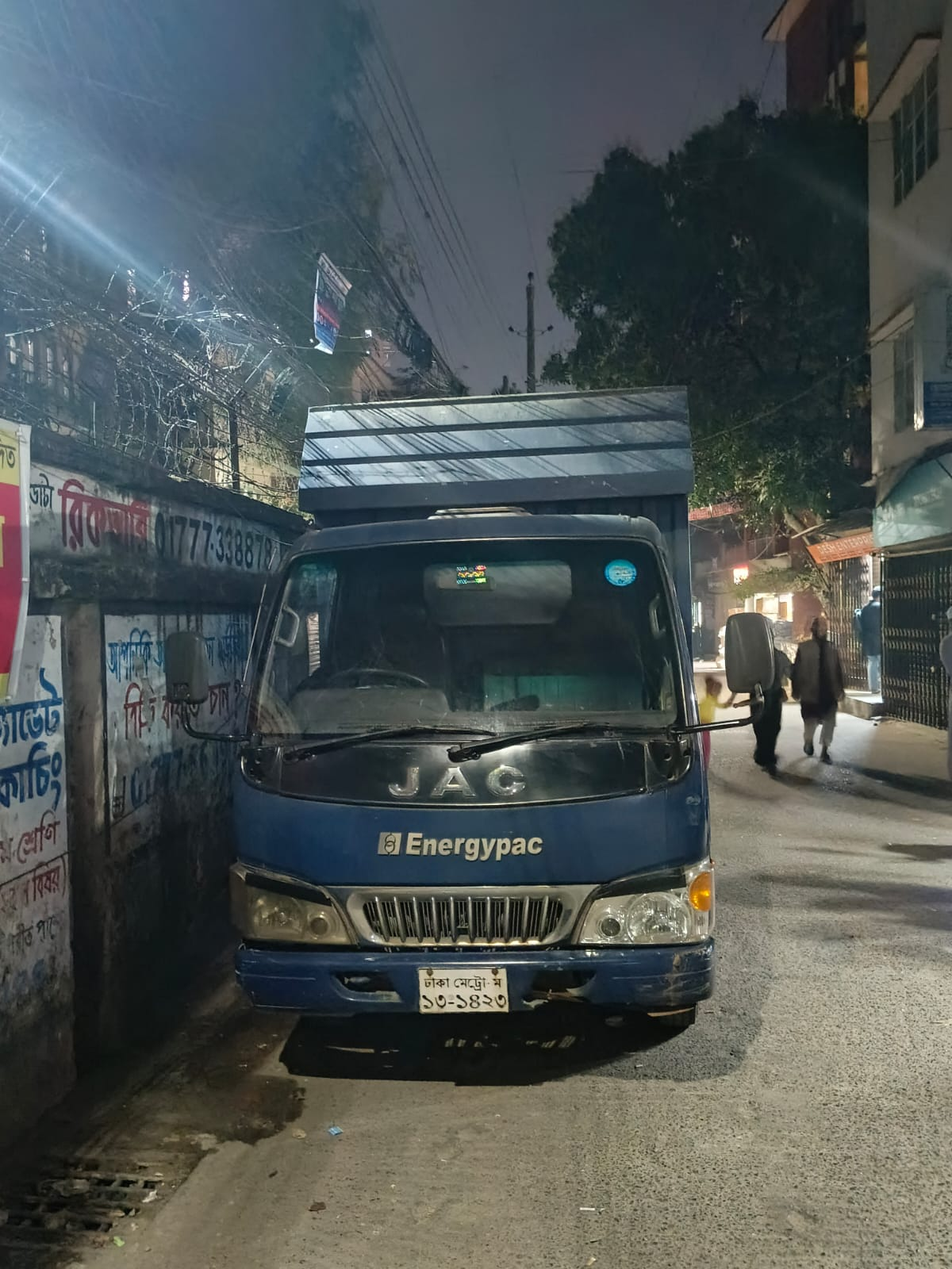Truck: (262, 334, 768, 1204)
